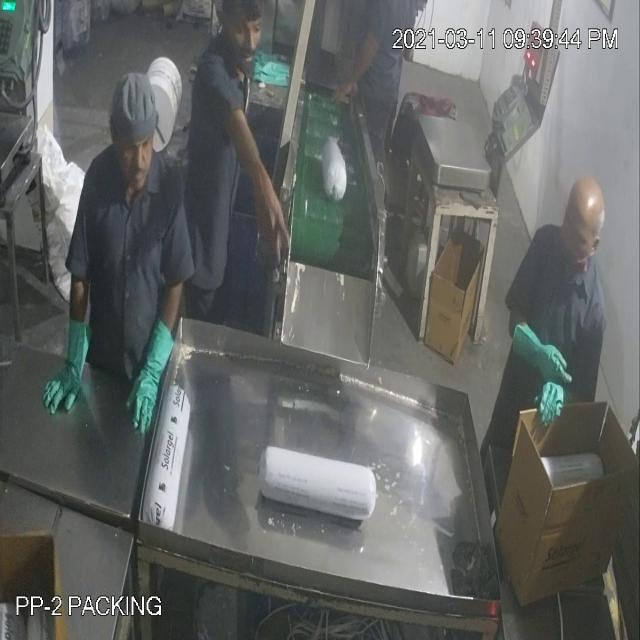gloves: (129, 315, 183, 439), (41, 315, 96, 425), (502, 319, 570, 389)
no-gloves: (216, 102, 304, 278), (333, 30, 384, 107)
